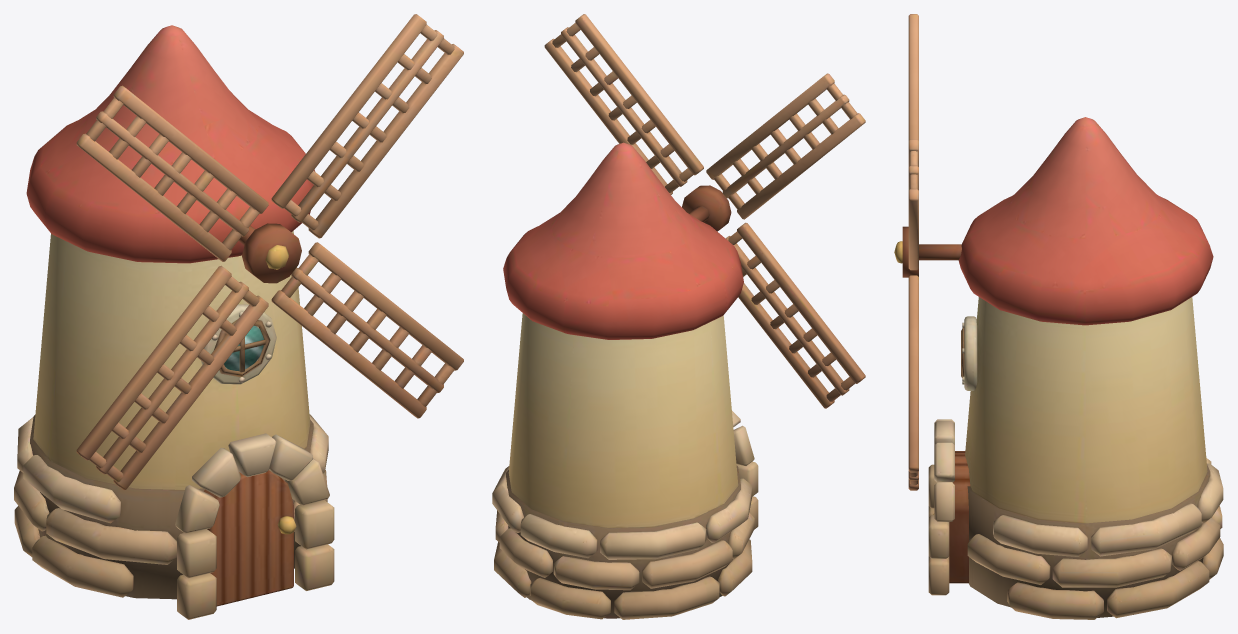
The model's file is mill_3_mid.glb.
3 views of the same model, side by side, from view 1: azimuth 30°, elevation 25°; view 2: azimuth 150°, elevation 25°; view 3: azimuth 270°, elevation 25° (orthographic). The views are drawn at different scales.
Visible parts, largest first — view 1: mill_3, sails; view 2: mill_3, sails; view 3: mill_3, sails.
Boxes of the visible parts, x1=… form: mill_3: x1=14, y1=25, x2=334, y2=619; sails: x1=76, y1=14, x2=463, y2=490; mill_3: x1=492, y1=142, x2=758, y2=619; sails: x1=544, y1=14, x2=865, y2=408; mill_3: x1=919, y1=117, x2=1223, y2=619; sails: x1=894, y1=14, x2=918, y2=490.
Bounding box in the file's own units: 1.5 × 2.09 × 1.27.
Materials: 1 (1 with a texture image).
